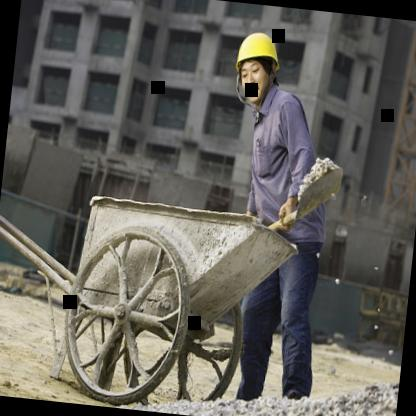helmet: (224, 22, 288, 106)
